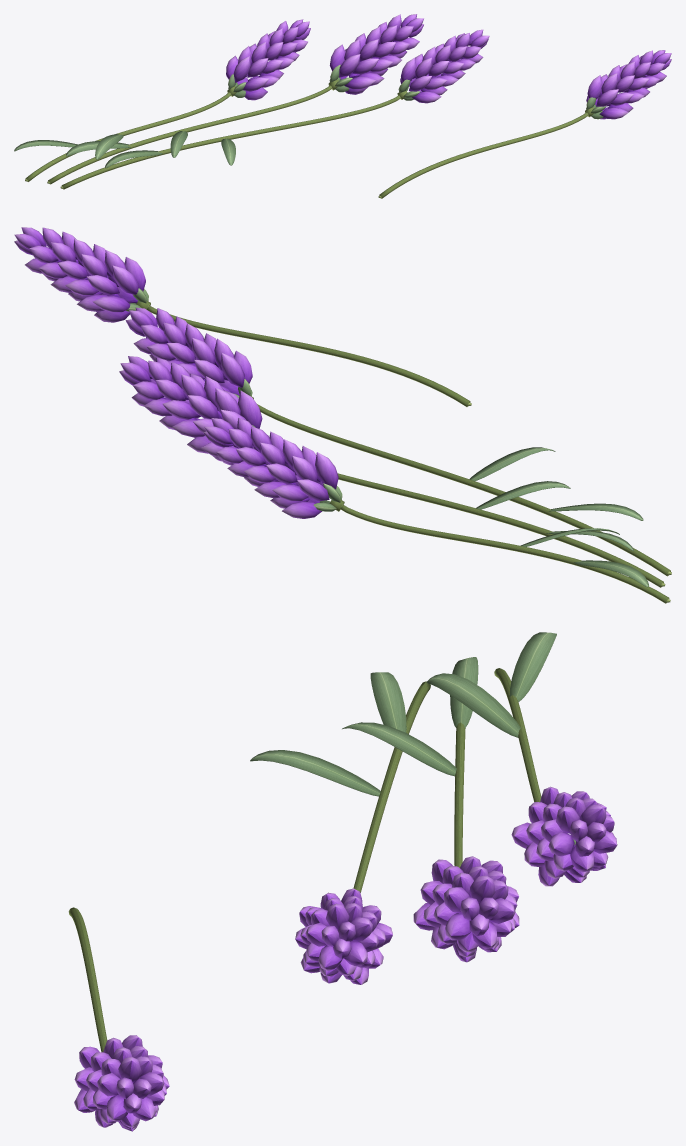
Rendered from NP_Lavender_Harvest.fbx.
The picture shows the model from 3 angles, top to bottom: view 1: azimuth 30°, elevation 25°; view 2: azimuth 150°, elevation 25°; view 3: azimuth 270°, elevation 25°; orthographic projection. The views are drawn at different scales.
Visible parts, largest first — view 1: NP_Lavender_Harvest; view 2: NP_Lavender_Harvest; view 3: NP_Lavender_Harvest.
Boxes of the visible parts, x1=… form: NP_Lavender_Harvest: x1=14, y1=14, x2=671, y2=198; NP_Lavender_Harvest: x1=14, y1=227, x2=671, y2=603; NP_Lavender_Harvest: x1=68, y1=632, x2=617, y2=1131.
Bounding box in the file's own units: 128 × 17.92 × 54.79.
